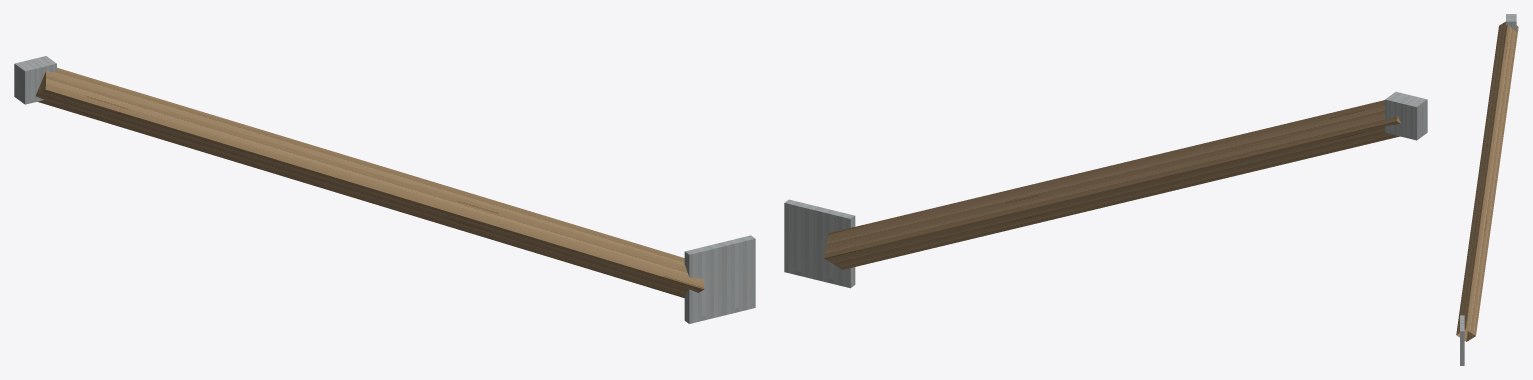
Rendered from brace_l.obj.
3 renders of one model, left to right at view 1: azimuth 30°, elevation 25°; view 2: azimuth 150°, elevation 25°; view 3: azimuth 270°, elevation 25°, orthographic. The views are drawn at different scales.
Visible parts, largest first — view 1: crossarm_alley_wood_5_l; view 2: crossarm_alley_wood_5_l; view 3: crossarm_alley_wood_5_l.
Part boxes in pixels (bbox=[...]): crossarm_alley_wood_5_l: bbox=[14, 56, 755, 323]; crossarm_alley_wood_5_l: bbox=[784, 92, 1427, 288]; crossarm_alley_wood_5_l: bbox=[1456, 14, 1518, 365].
Size of the model in its own units: 3.23 by 1.67 by 0.5113.
